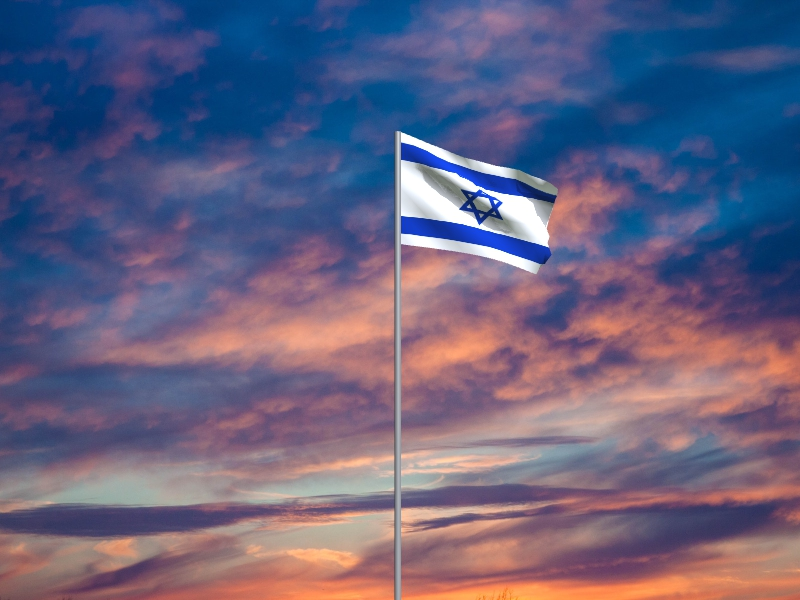il: (401, 133, 559, 276)
